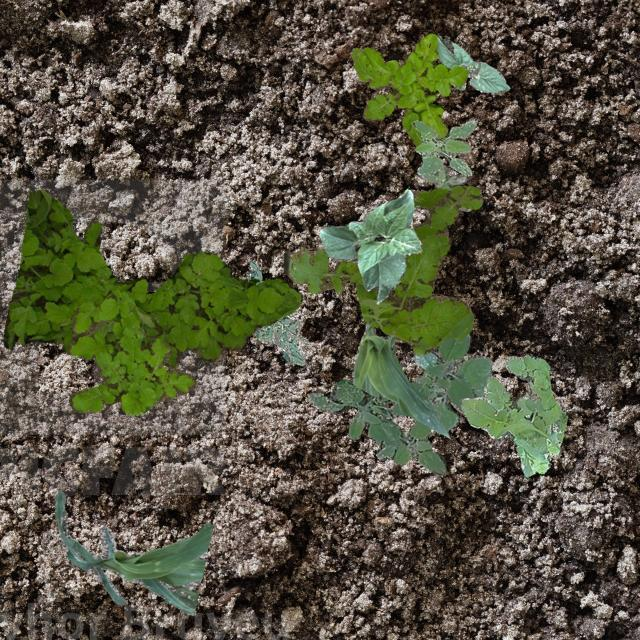crop: (54, 490, 212, 614), (318, 188, 420, 302), (350, 322, 448, 436), (434, 34, 508, 92)
weed: (3, 188, 300, 366), (282, 185, 482, 352), (306, 332, 476, 476), (68, 288, 194, 414), (458, 352, 566, 476), (351, 32, 466, 146), (246, 260, 308, 364), (412, 350, 491, 430), (412, 120, 476, 174), (417, 163, 469, 210)
